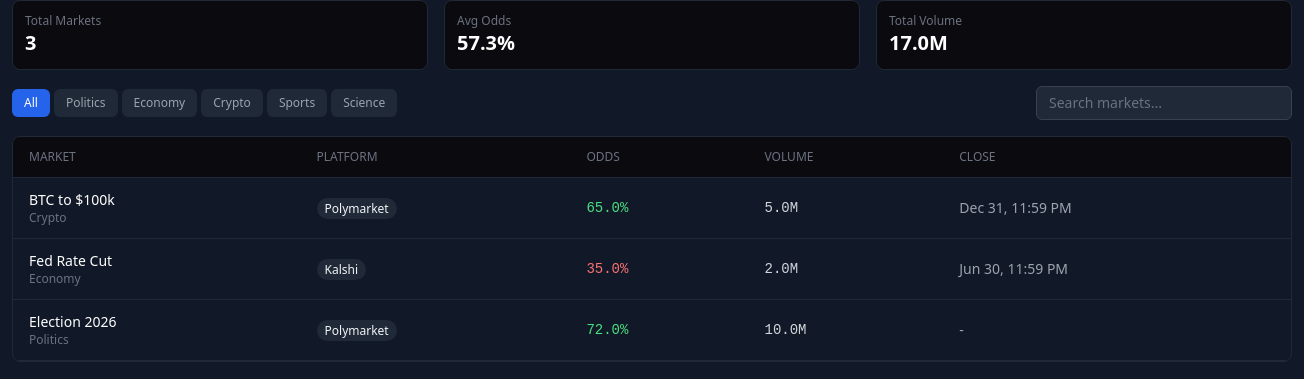
MarketTable › filters by search query
The image size is (1304, 379).
expect the text "BTC to $100k" is shown: met, box [29,190,115,209]
In the field with placeholder "Search markets...": coordinates (1164, 103) [1036,86,1292,120], type "fed"
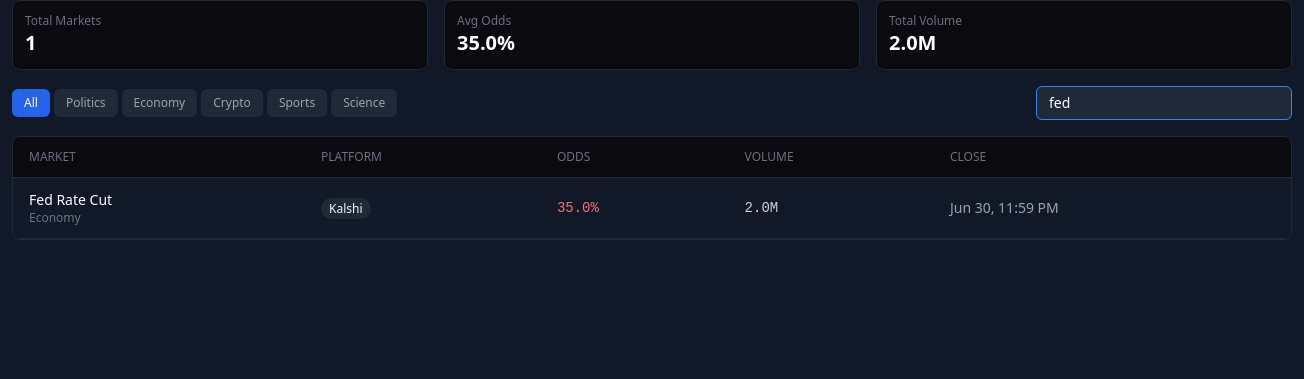
expect the text "Fed Rate Cut" is shown: met, box [29,190,112,209]
expect the text "BTC to $100k" is gone: met
